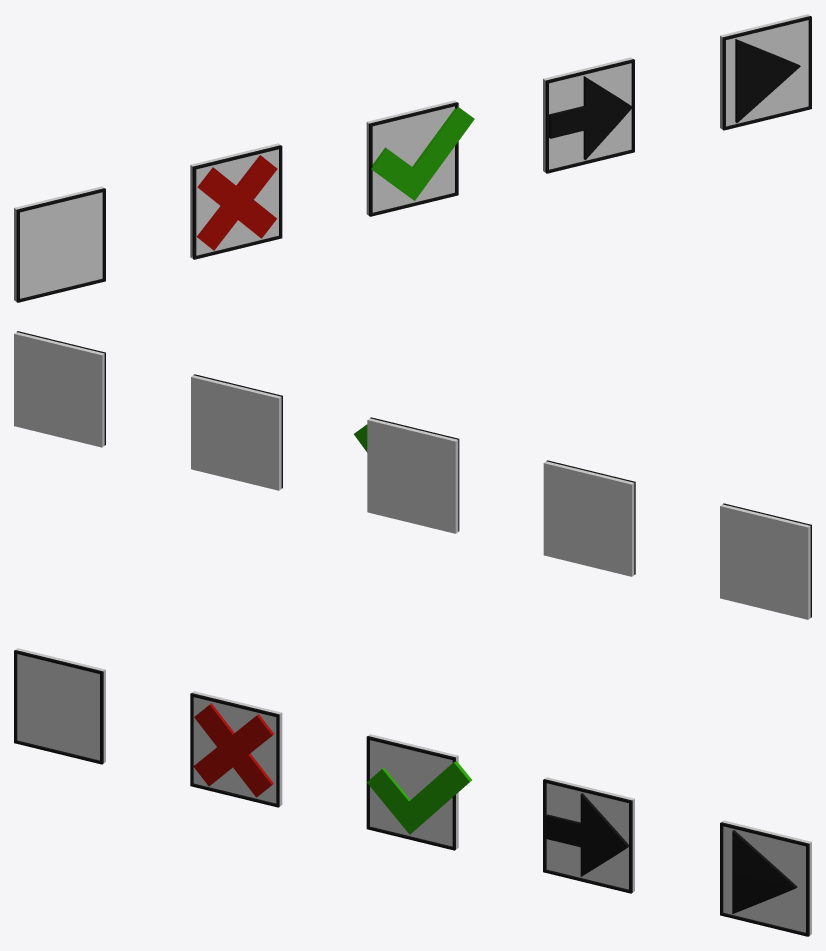
The model's file is IconsA7.fbx.
The picture shows the model from 3 angles, top to bottom: view 1: azimuth 30°, elevation 25°; view 2: azimuth 150°, elevation 25°; view 3: azimuth 330°, elevation 25°; orthographic projection.
Parts seen in each view (by area): view 1: Checkbox, CheckmarkBox, ShortArrowBox, ArrowBox, XBox, X, Checkmark, Arrow, Arrow.001, CBBorder.001, CBBorder.004, CBBorder (+2 smaller); view 2: XBox, CheckmarkBox, Checkbox, ShortArrowBox, ArrowBox; view 3: Checkbox, CheckmarkBox, ShortArrowBox, ArrowBox, XBox, X, Checkmark, Arrow, Arrow.001, CBBorder.001, CBBorder.004, CBBorder (+2 smaller).
Part boxes in pixels (left/top/right/bottom): Checkbox: left=14, top=186, right=104, bottom=301; CheckmarkBox: left=366, top=100, right=456, bottom=215; ShortArrowBox: left=720, top=14, right=810, bottom=129; ArrowBox: left=543, top=57, right=632, bottom=172; XBox: left=190, top=143, right=280, bottom=258; X: left=197, top=155, right=277, bottom=250; Checkmark: left=371, top=107, right=474, bottom=200; Arrow: left=549, top=76, right=632, bottom=160; Arrow.001: left=735, top=39, right=800, bottom=122; CBBorder.001: left=192, top=145, right=282, bottom=259; CBBorder.004: left=722, top=16, right=811, bottom=130; CBBorder: left=16, top=188, right=105, bottom=302; XBox: left=543, top=461, right=634, bottom=576; CheckmarkBox: left=367, top=418, right=458, bottom=533; Checkbox: left=720, top=504, right=810, bottom=619; ShortArrowBox: left=14, top=332, right=104, bottom=447; ArrowBox: left=191, top=375, right=281, bottom=490; Checkbox: left=15, top=648, right=105, bottom=762; CheckmarkBox: left=368, top=734, right=458, bottom=849; ShortArrowBox: left=721, top=820, right=811, bottom=935; ArrowBox: left=545, top=777, right=634, bottom=892; XBox: left=192, top=691, right=282, bottom=806; X: left=193, top=703, right=273, bottom=797; Checkmark: left=367, top=761, right=471, bottom=834; Arrow: left=545, top=793, right=628, bottom=876; Arrow.001: left=732, top=830, right=797, bottom=914; CBBorder.001: left=190, top=693, right=279, bottom=807; CBBorder.004: left=720, top=822, right=809, bottom=936; CBBorder: left=14, top=650, right=103, bottom=764.
Size of the model in its own units: 17.87 by 1801 by 200.
